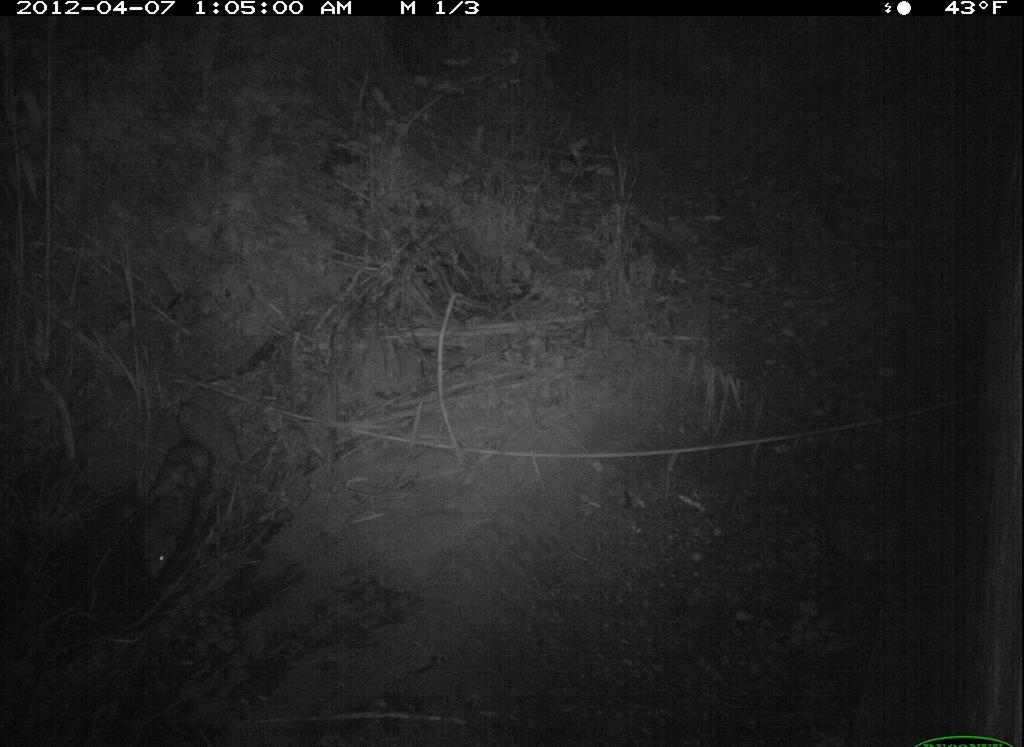opossum: (134, 406, 223, 582)
